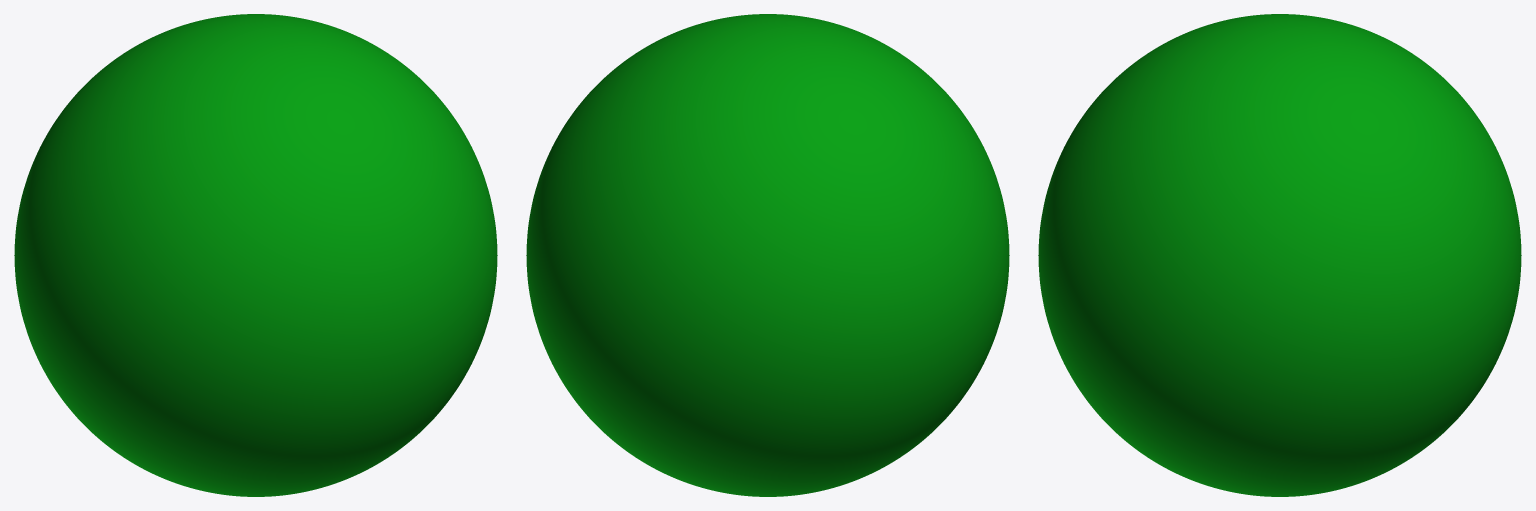
The picture shows the model from 3 angles, left to right: view 1: azimuth 30°, elevation 25°; view 2: azimuth 150°, elevation 25°; view 3: azimuth 270°, elevation 25°; orthographic projection.
Visible parts, largest first — view 1: Original28560; view 2: Original28560; view 3: Original28560.
Part boxes in pixels (bbox=[...]): Original28560: bbox=[14, 14, 497, 496]; Original28560: bbox=[526, 14, 1009, 496]; Original28560: bbox=[1038, 14, 1521, 496].
Bounding box in the file's own units: 2 × 2 × 2.
